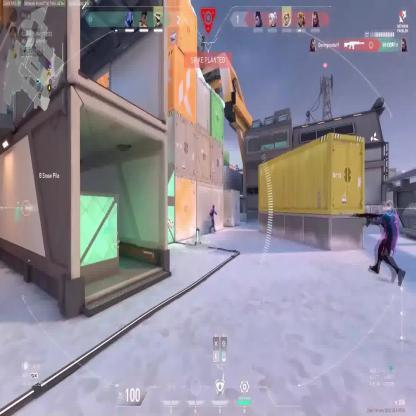enemy: (209, 204, 216, 233)
enemy_head: (212, 204, 215, 210)
